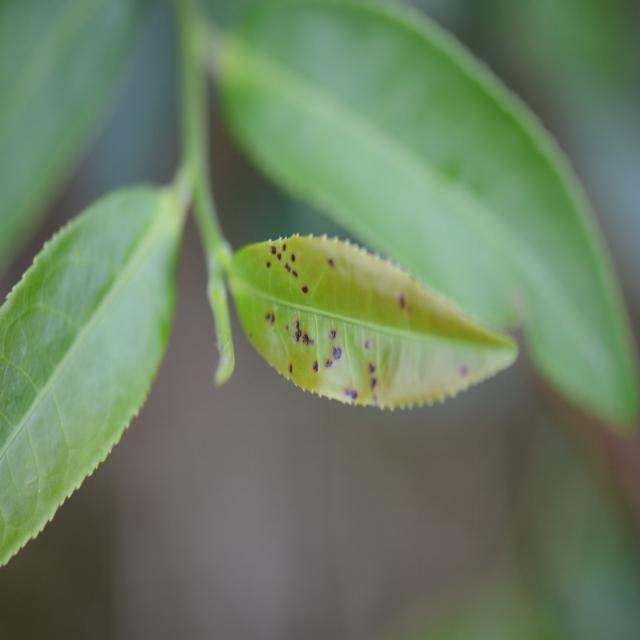Tea red scab: (264, 296, 481, 412), (233, 222, 409, 313)
